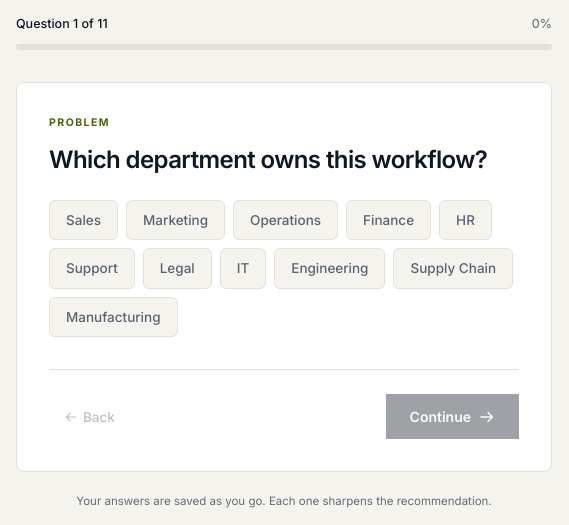
Test: Standalone assessment flow › should enforce a required answer before continuing
Expected: the text "Question 1 of 11" is shown, [16, 16, 108, 31]
Expected: the button "Continue" is disabled, [386, 394, 519, 439]
Click the button "Sales": (84,220) [49, 200, 118, 240]
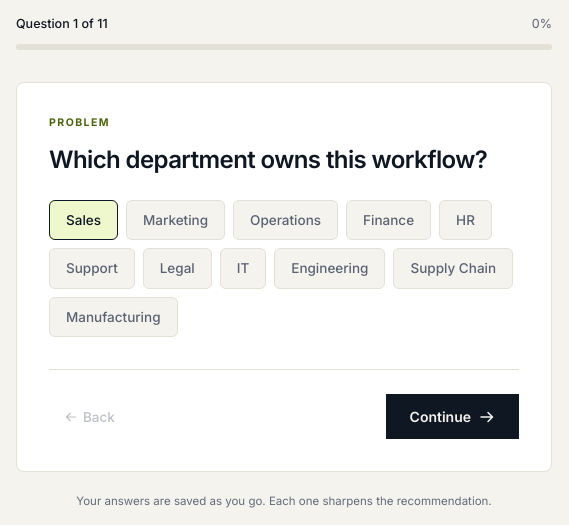
Now the button "Continue" is enabled, box [386, 394, 519, 439]
